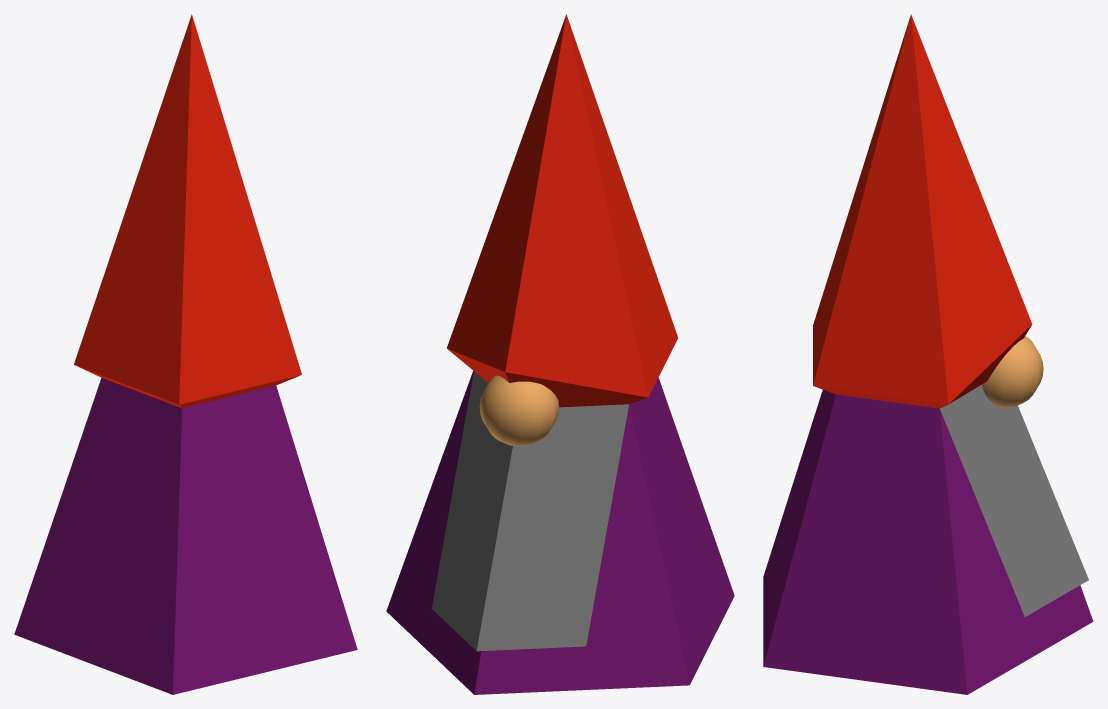
Rendered from gnome.glb.
3 renders of one model, left to right at view 1: azimuth 30°, elevation 25°; view 2: azimuth 150°, elevation 25°; view 3: azimuth 270°, elevation 25°, orthographic.
Visible parts, largest first — view 1: Circle; view 2: Circle, Sphere; view 3: Circle, Sphere.
Part boxes in pixels (bbox=[...]): Circle: bbox=[14, 14, 357, 694]; Circle: bbox=[386, 14, 734, 694]; Sphere: bbox=[479, 375, 558, 446]; Circle: bbox=[763, 14, 1093, 694]; Sphere: bbox=[982, 336, 1043, 407].
Bounding box in the file's own units: 1.9 × 3.68 × 1.81.
